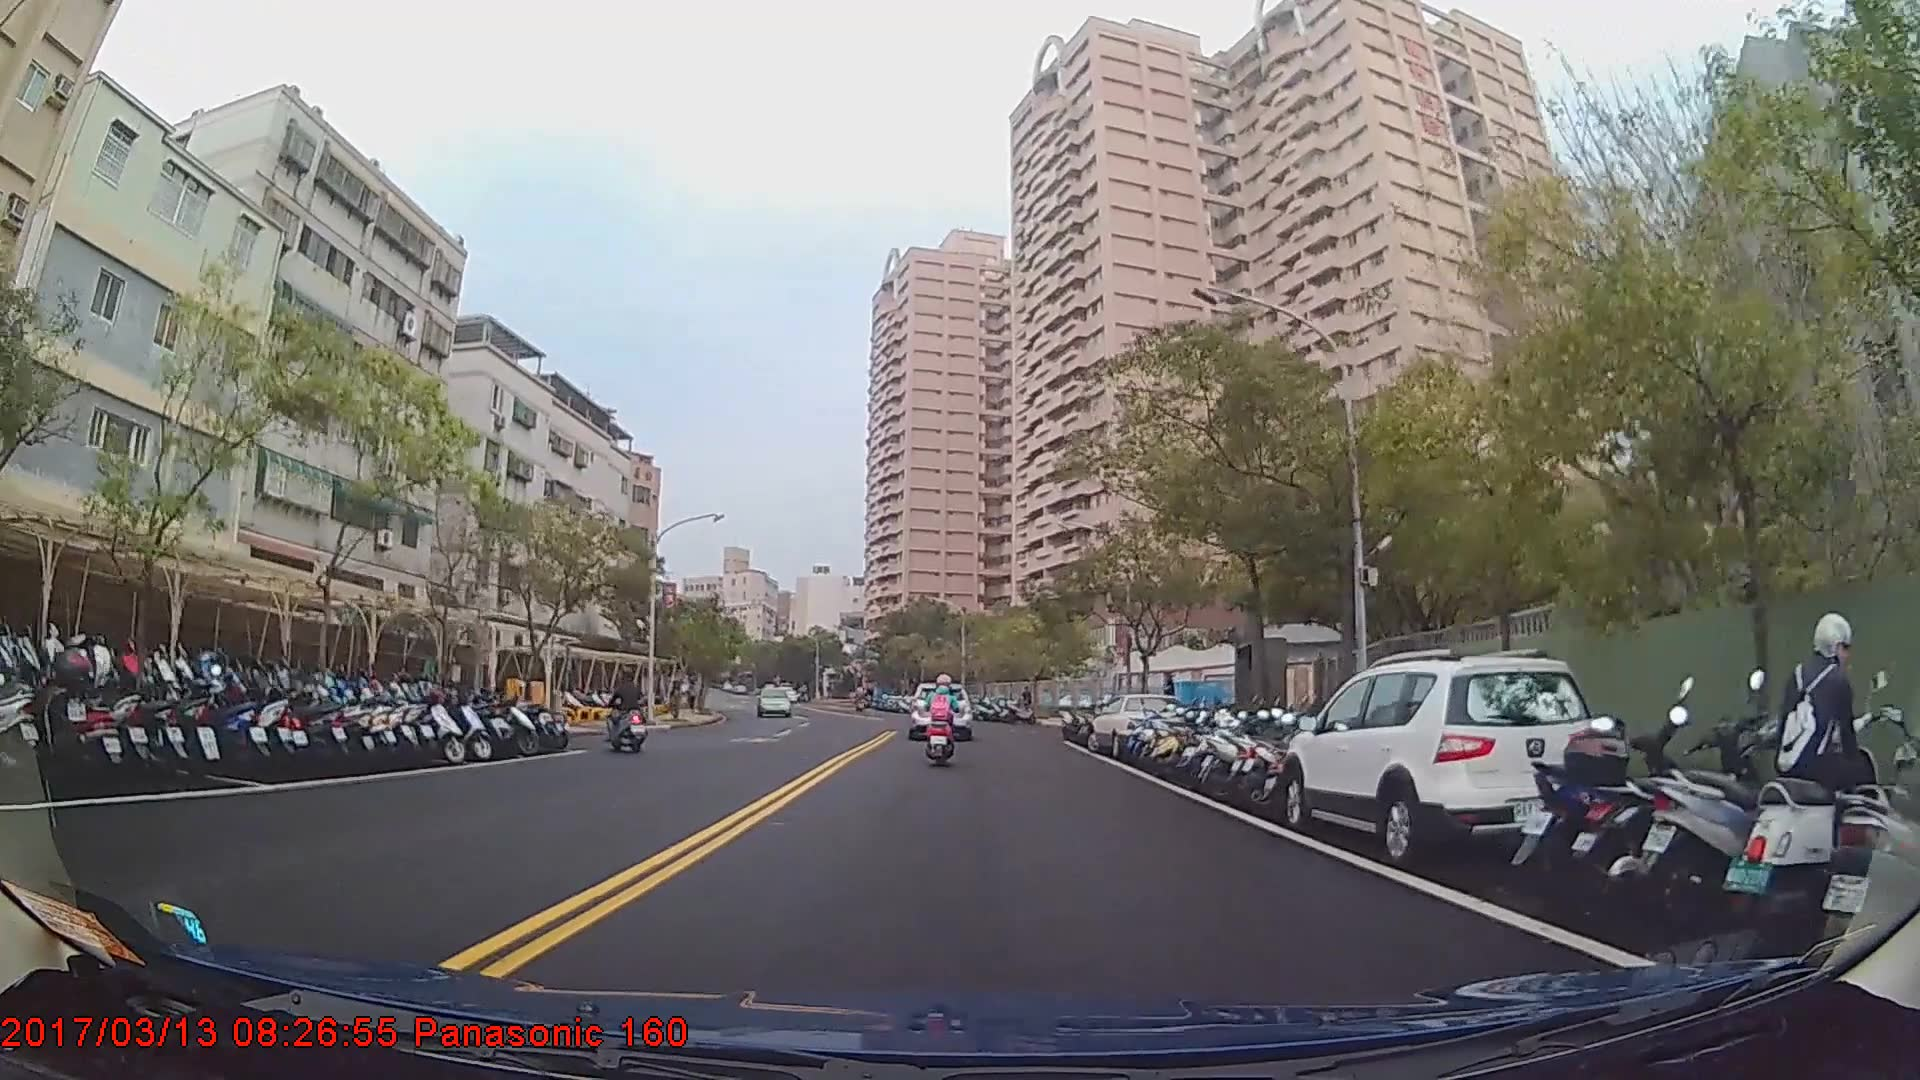rider: (920, 674, 964, 769), (608, 664, 644, 754)
vehicle: (1281, 649, 1611, 862), (1086, 691, 1184, 760), (906, 679, 971, 736), (757, 683, 793, 719)
